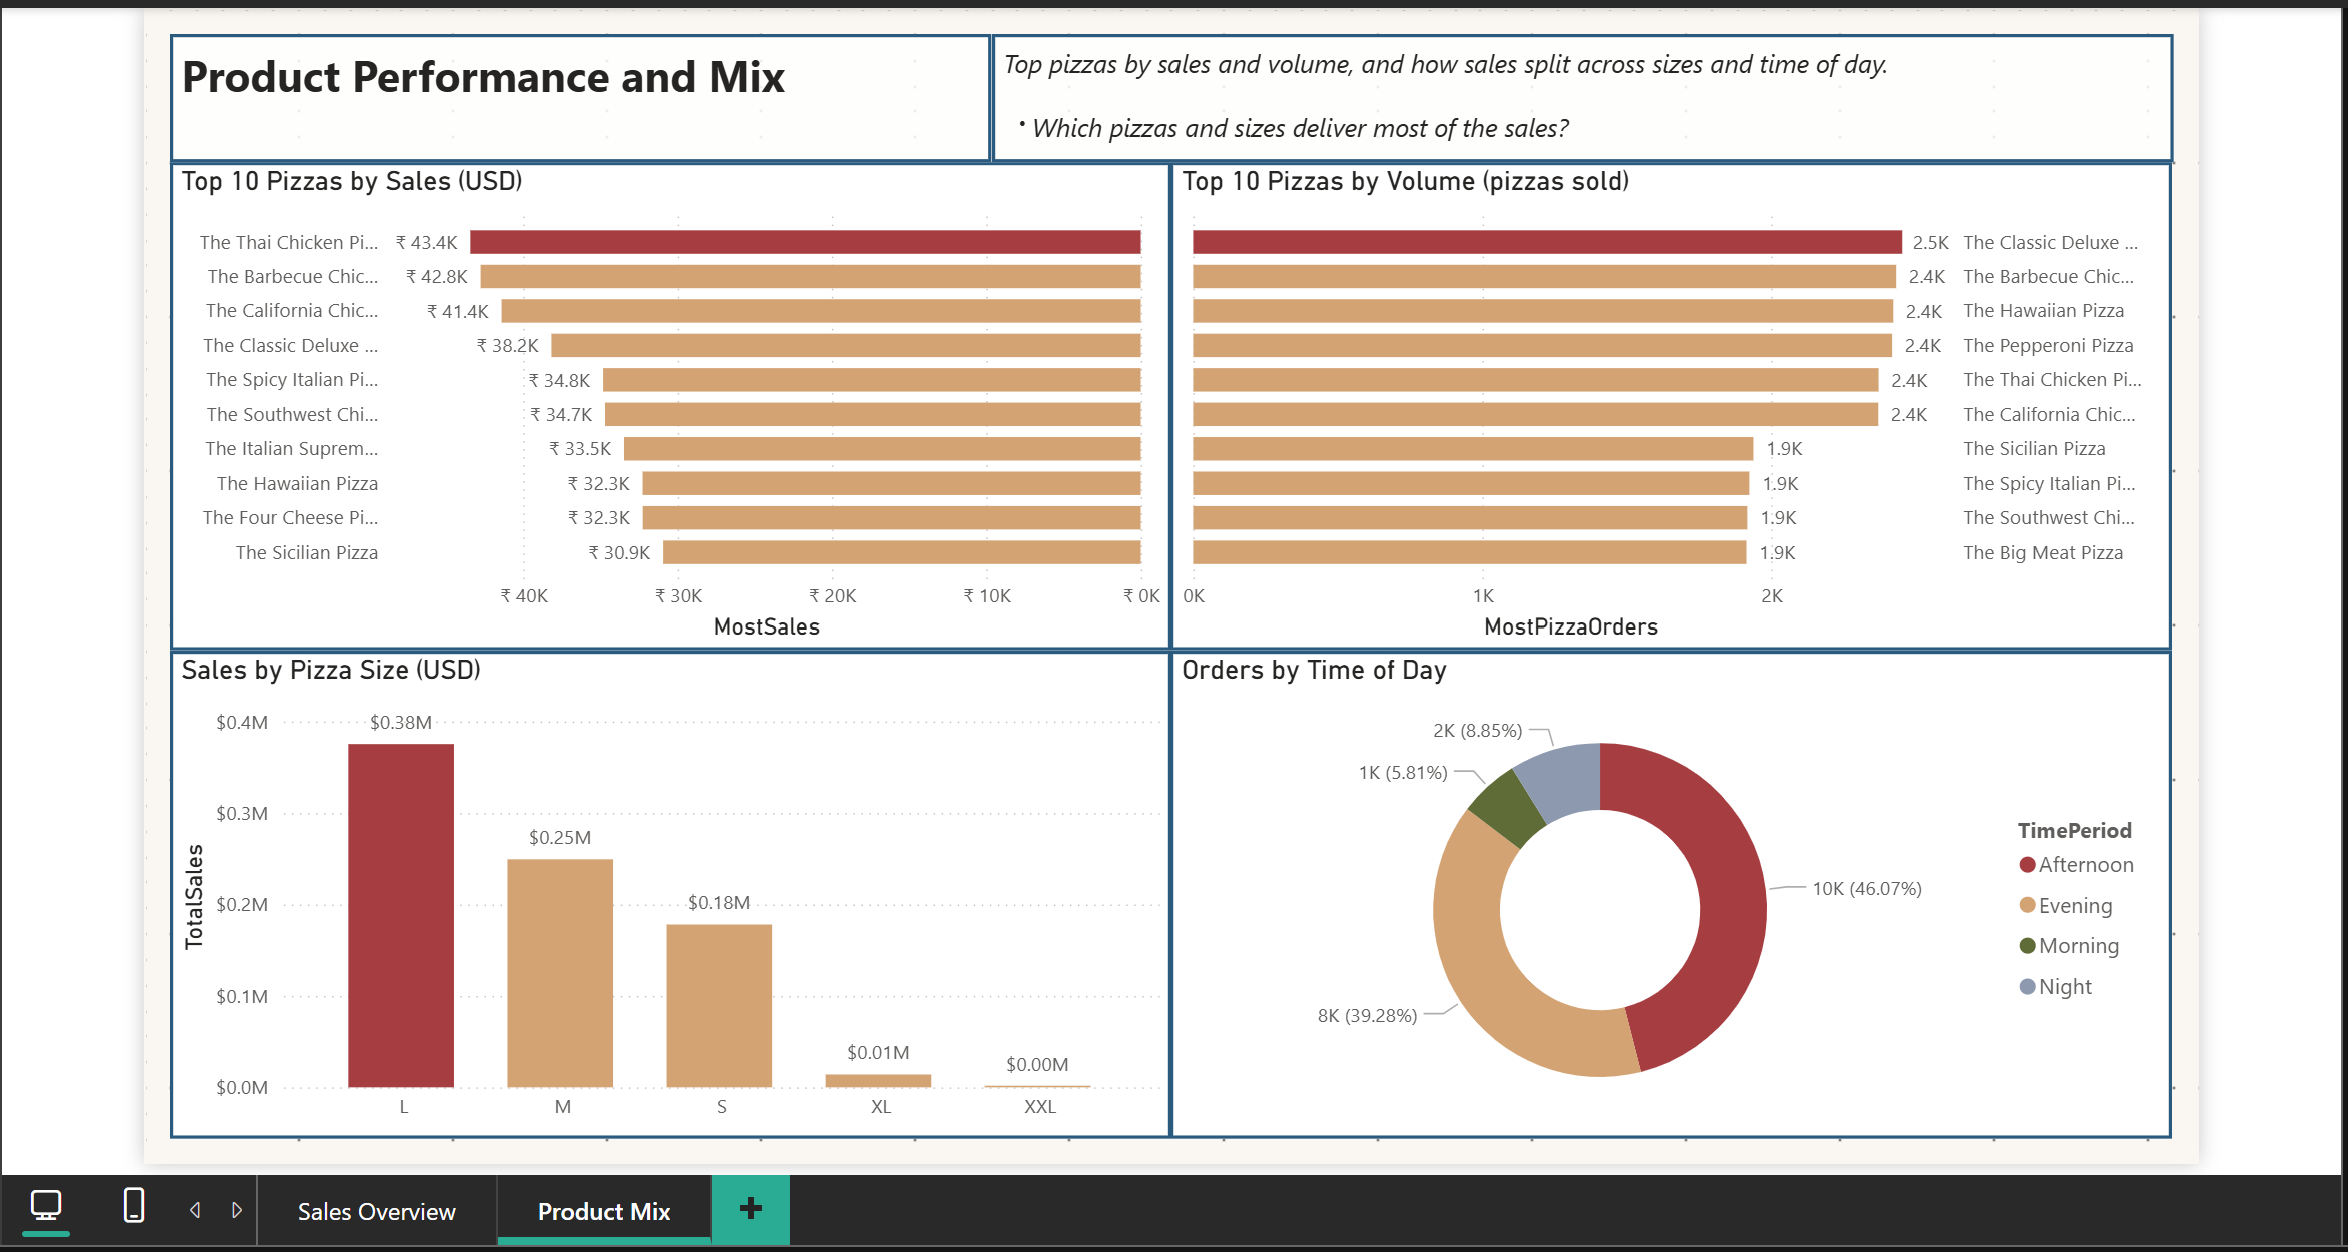

This screenshot's page, from the dashboard's own definition file:
{"tool":"powerbi","page":{"name":"Product Mix","canvas":[1280,720],"ordinal":1},"visuals":[{"type":"textbox","box":[528,16,736,80],"z":0,"group":"g1"},{"type":"barChart","title":"Top 10 Pizzas by Sales (USD)","fields":{"Category":["pizza types.name"],"Y":["order details.MostSales"]},"box":[16,96,624,304],"z":0},{"type":"textbox","box":[16,16,512,80],"z":1000,"group":"g1"},{"type":"barChart","title":"Top 10 Pizzas by Volume (pizzas sold)","fields":{"Category":["pizza types.name"],"Y":["order details.MostPizzaOrders"]},"box":[640,96,624,304],"z":1000},{"type":"donutChart","title":"Orders by Time of Day","fields":{"Category":["orders.TimePeriod"],"Y":["orders.TotalOrdersByTimePeriod"]},"box":[640,400,624,304],"z":2000},{"type":"group","id":"g1","title":"Group 1","box":[16,16,1248,80],"z":3000},{"type":"columnChart","title":"Sales by Pizza Size (USD)","fields":{"Category":["pizzas.size"],"Y":["order details.TotalSales"]},"box":[16,400,624,304],"z":4000}]}

Visuals, with their boxes on the page's 1280x720 design canvas (x1, y1, x2, y2). These are canvas units, not pixel positions in the 2348x1252 screenshot, which may show the page scaled, cropped or inside an application window:
textbox: {"left": 528, "top": 16, "right": 1264, "bottom": 96}
"Top 10 Pizzas by Sales (USD)" barChart: {"left": 16, "top": 96, "right": 640, "bottom": 400}
textbox: {"left": 16, "top": 16, "right": 528, "bottom": 96}
"Top 10 Pizzas by Volume (pizzas sold)" barChart: {"left": 640, "top": 96, "right": 1264, "bottom": 400}
"Orders by Time of Day" donutChart: {"left": 640, "top": 400, "right": 1264, "bottom": 704}
"Group 1" group: {"left": 16, "top": 16, "right": 1264, "bottom": 96}
"Sales by Pizza Size (USD)" columnChart: {"left": 16, "top": 400, "right": 640, "bottom": 704}
